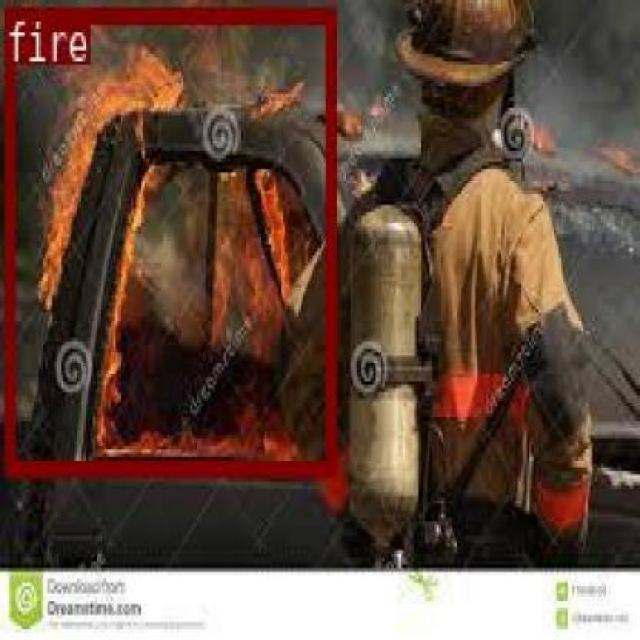Fire: (4, 3, 333, 474)
